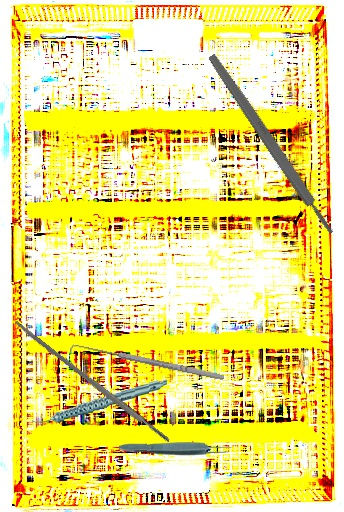Handpiece: (29, 379, 170, 425)
Hook Surgical: (69, 339, 225, 388)
Scalpel Handle: (205, 52, 337, 237), (13, 319, 171, 445)
Tissue Forceps: (118, 441, 234, 457)
